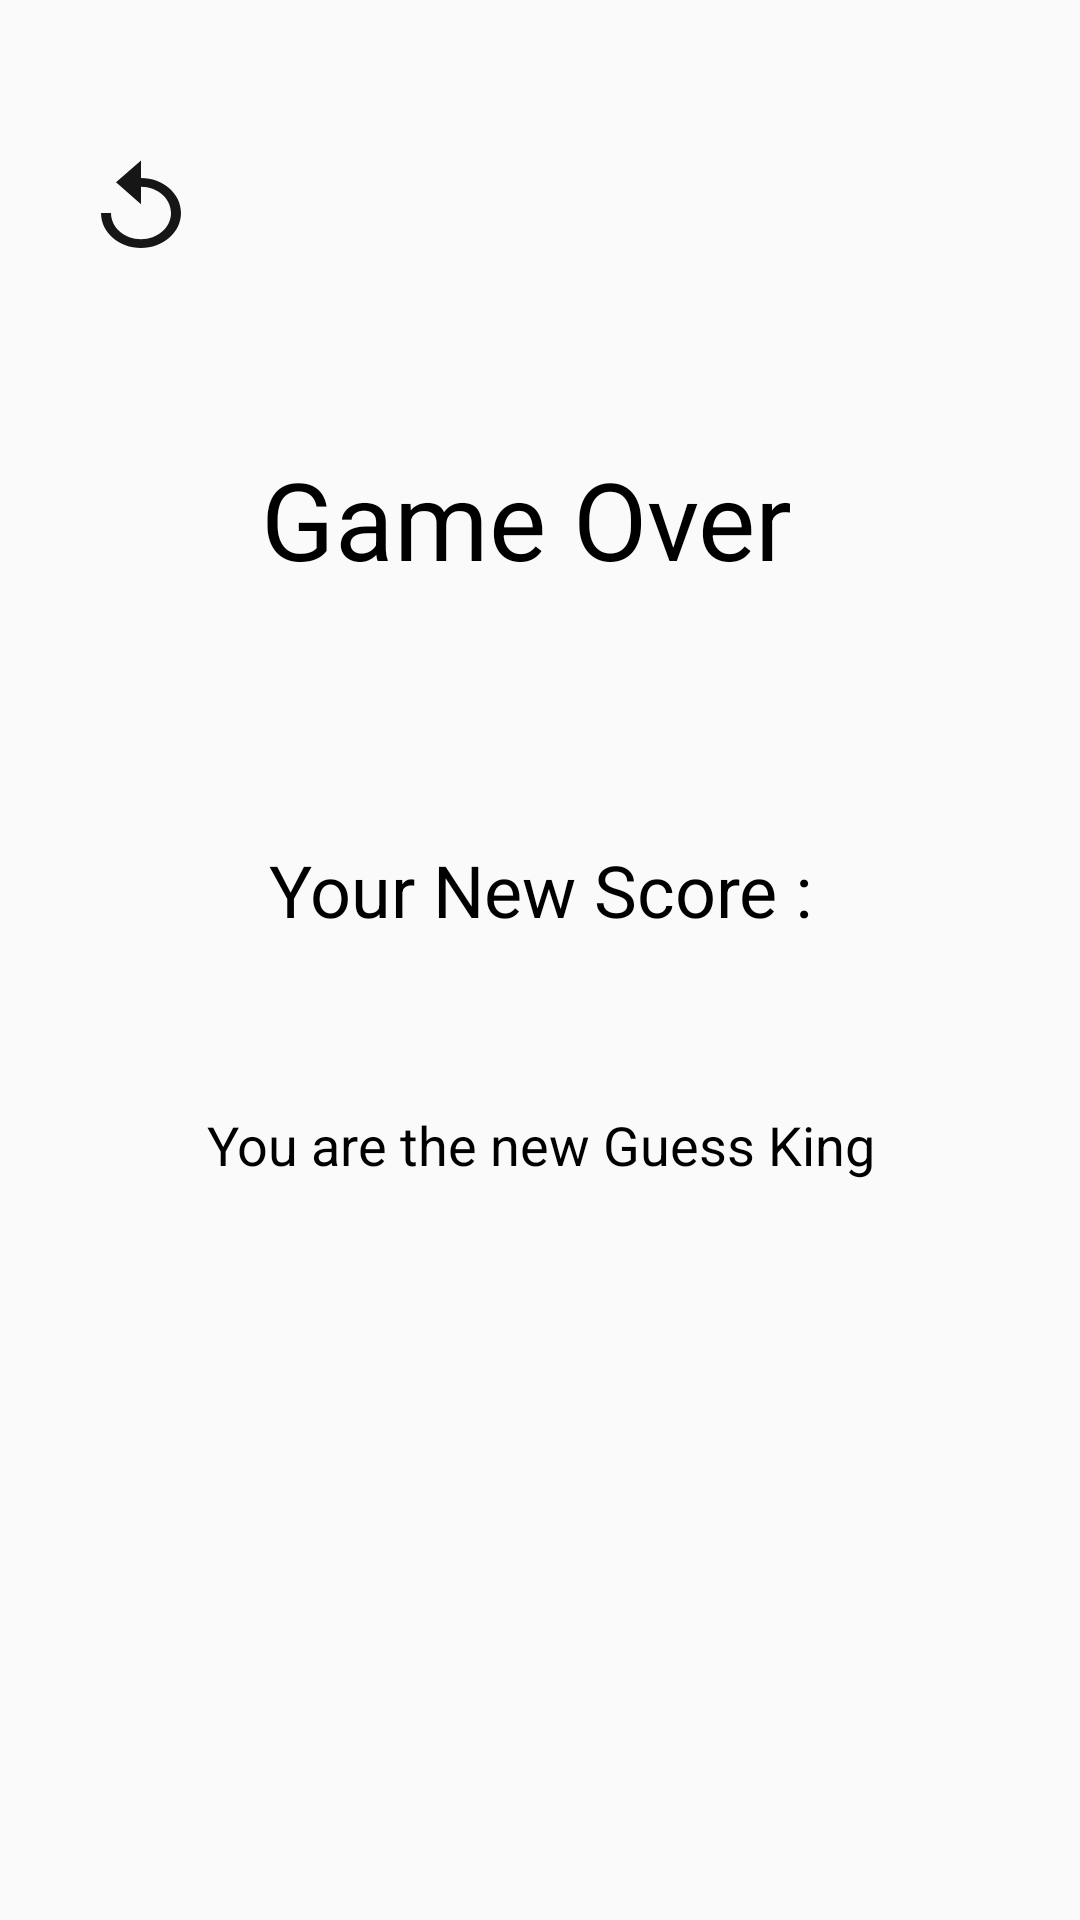

Where to tap for icons on this 1080×1920 app screen, as point (x, y):
replay: point (141, 204)
